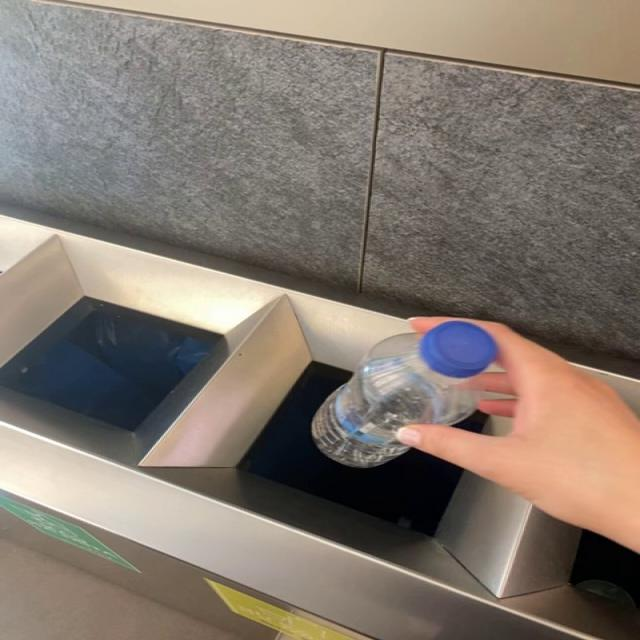plastic: (312, 321, 499, 468)
